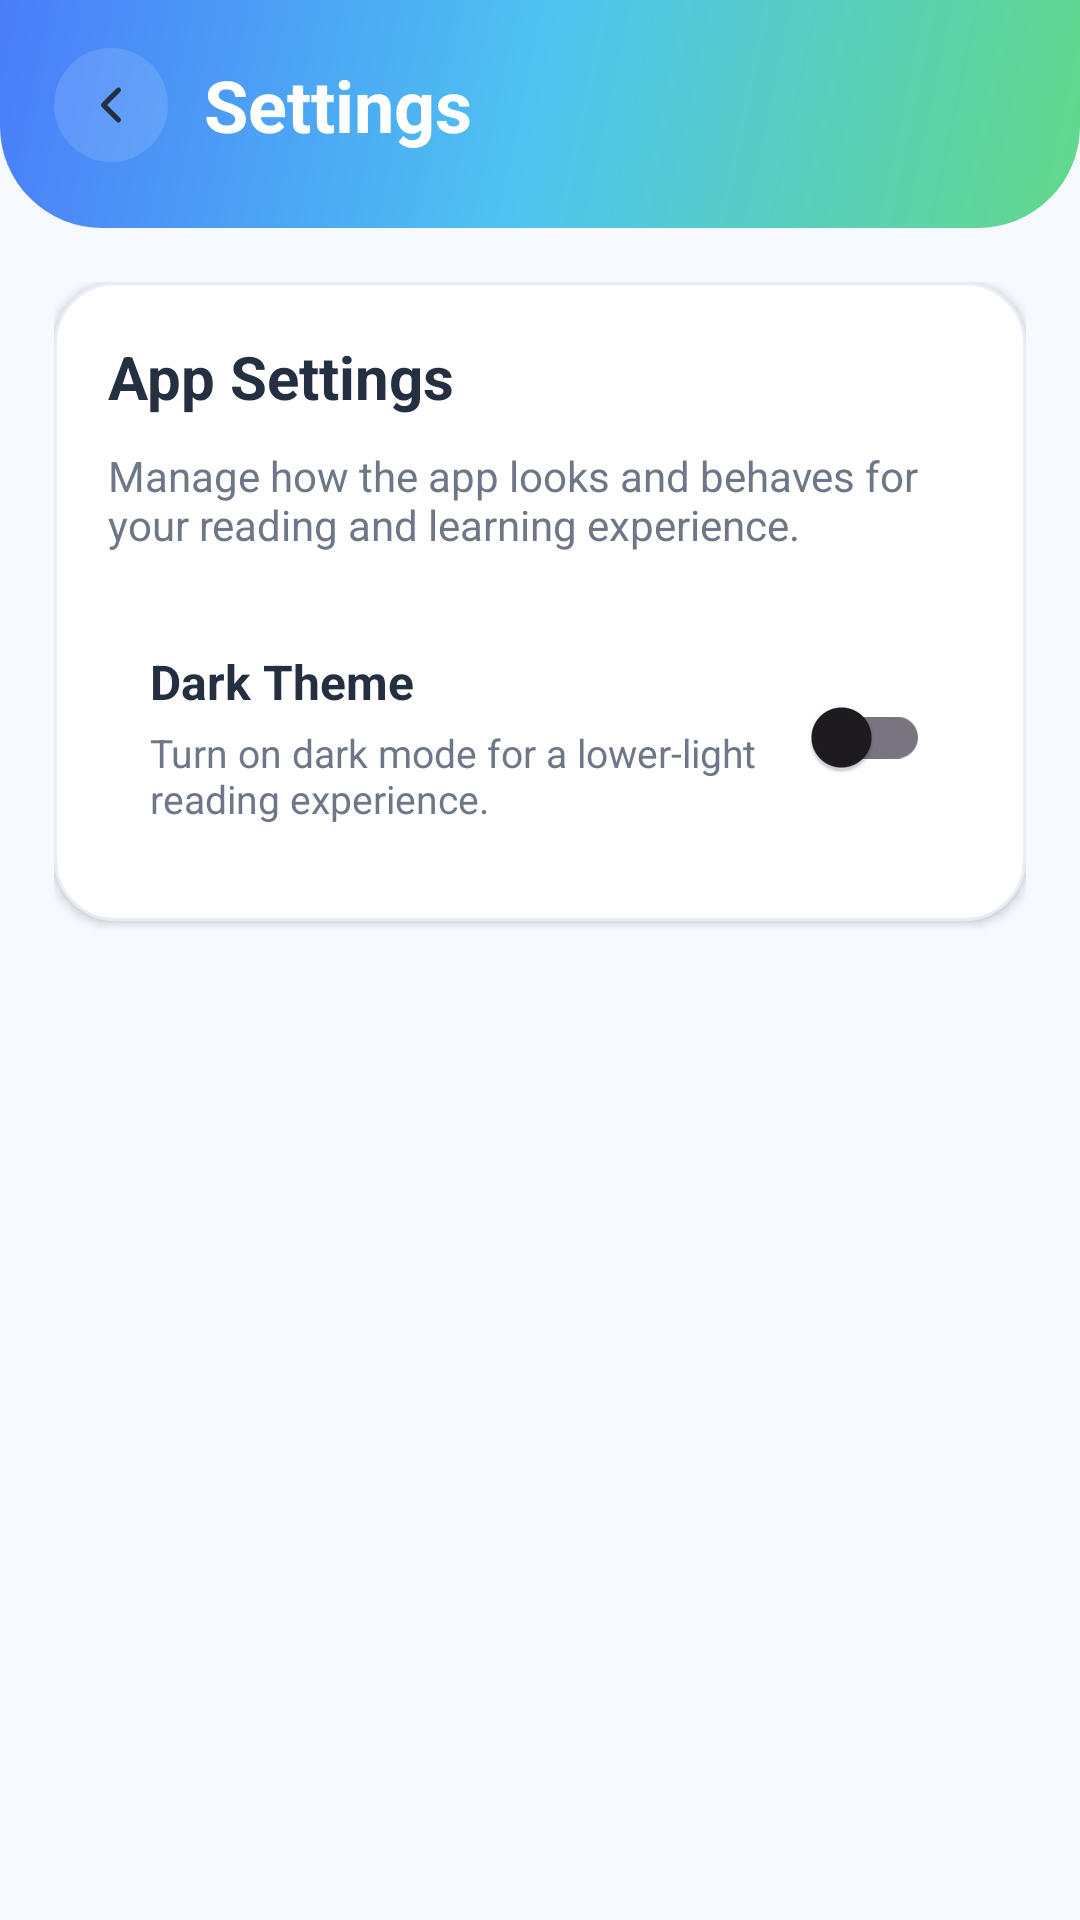

Icons on this 1080×1920 Android screen, each with its box as {"x1": x1, "y1": y1, "x2": x2, "y2": y2}:
back: {"x1": 101, "y1": 87, "x2": 121, "y2": 123}
